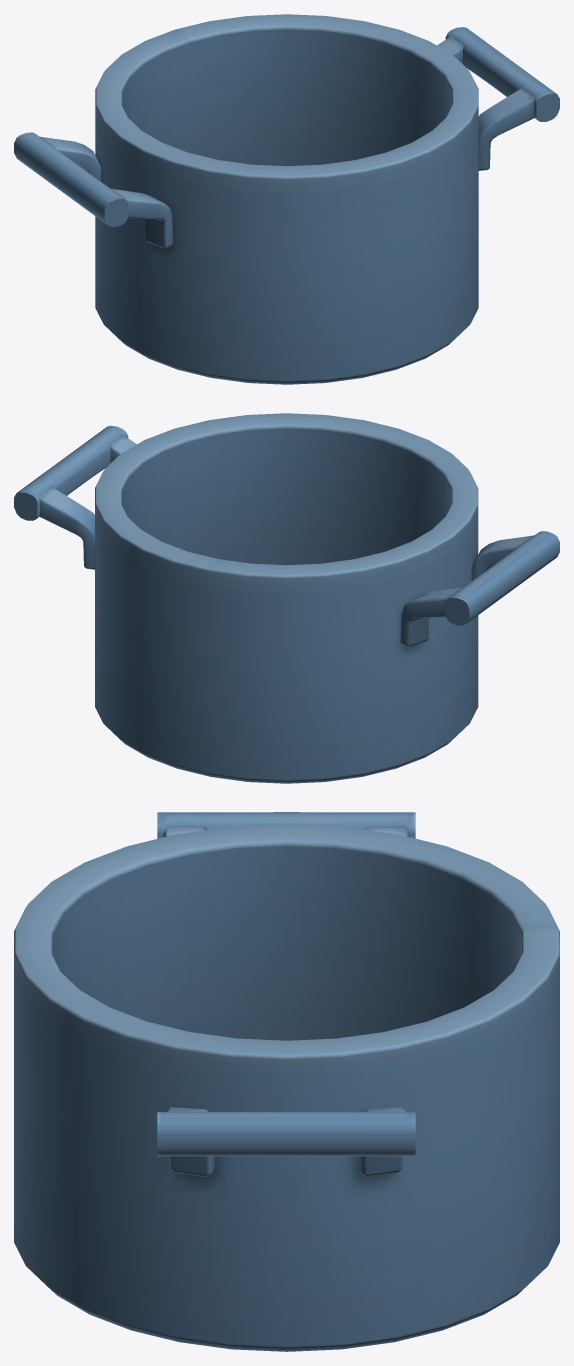
The model's file is Pot.fbx.
3 renders of one model, top to bottom at view 1: azimuth 30°, elevation 25°; view 2: azimuth 150°, elevation 25°; view 3: azimuth 270°, elevation 25°, orthographic. The views are drawn at different scales.
Parts seen in each view (by area): view 1: Pot; view 2: Pot; view 3: Pot.
Boxes of the visible parts, bbox=[...] form: Pot: bbox=[14, 14, 559, 384]; Pot: bbox=[14, 413, 559, 783]; Pot: bbox=[14, 812, 559, 1351].
Size of the model in its own units: 1.15 by 0.5102 by 0.8393.
1 material, 1 textured.
